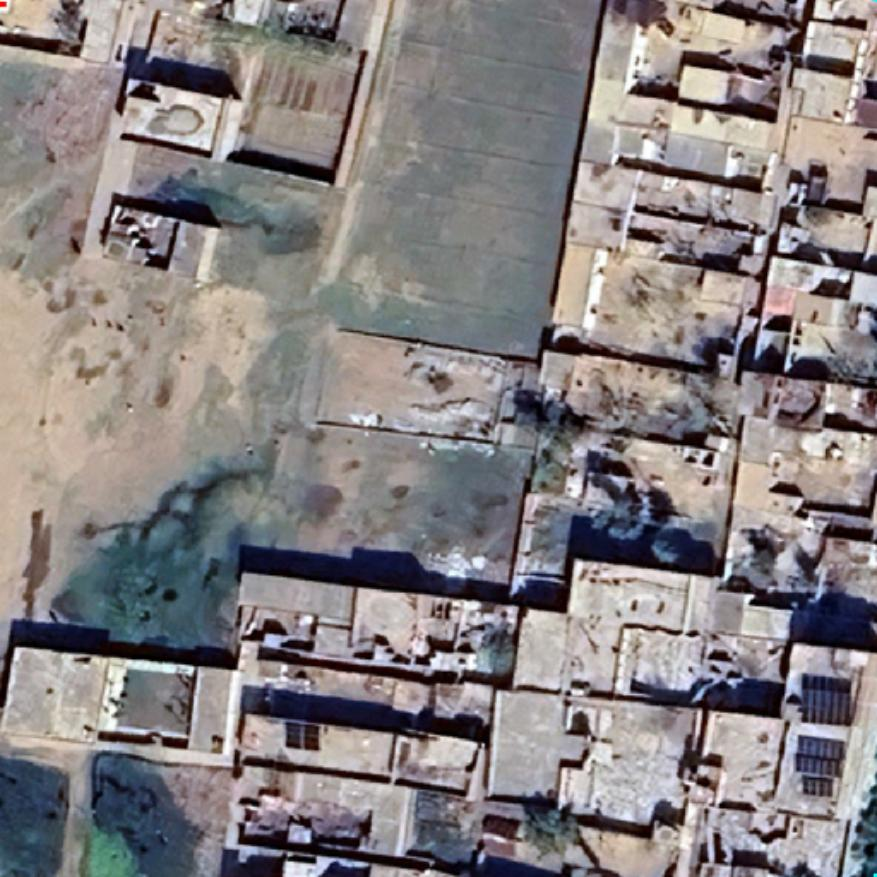Solarpanel: (790, 730, 850, 802), (795, 672, 859, 730), (281, 718, 323, 754)
